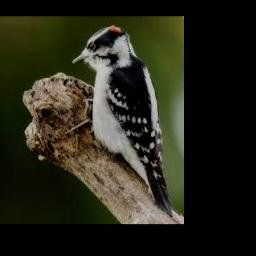Woodpecker: (64, 24, 180, 217)
